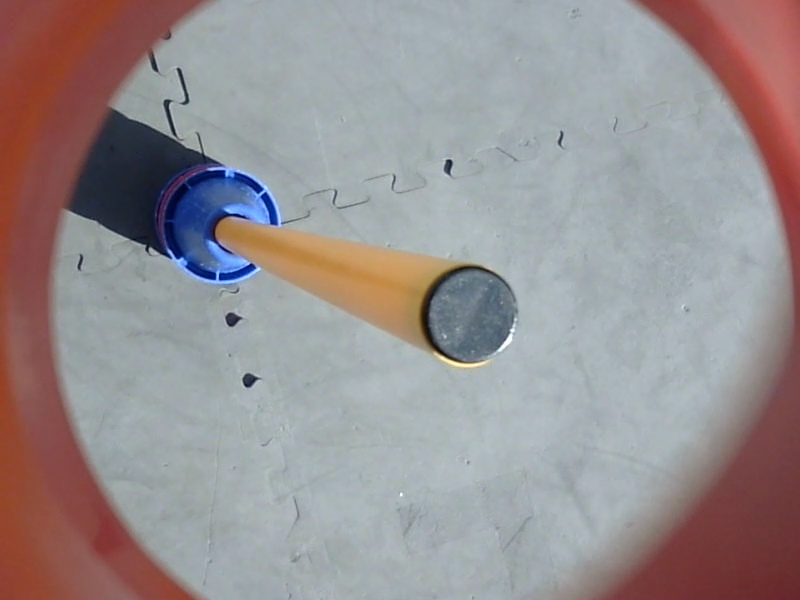tip: (415, 259, 526, 372)
